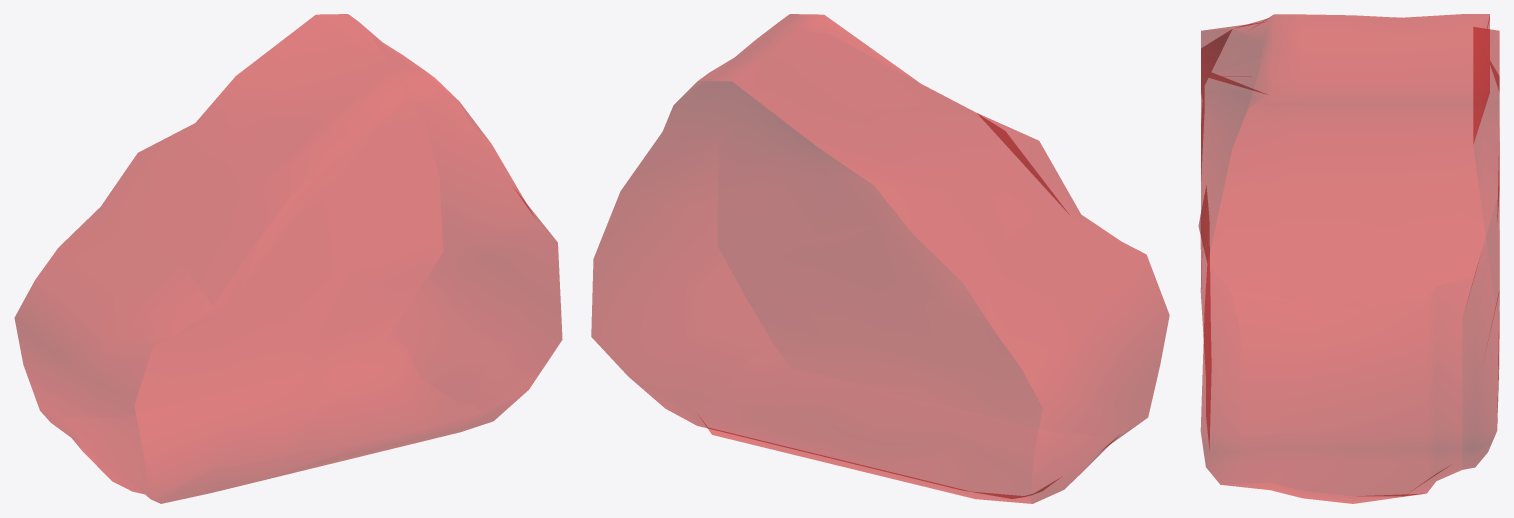
File: OooweeRock.fbx
3 renders of one model, left to right at view 1: azimuth 30°, elevation 25°; view 2: azimuth 150°, elevation 25°; view 3: azimuth 270°, elevation 25°, orthographic. The views are drawn at different scales.
Parts seen in each view (by area): view 1: pCube1; view 2: pCube1; view 3: pCube1.
Part boxes in pixels (x1,y1,x2,y2): pCube1: [14, 14, 562, 503]; pCube1: [591, 14, 1169, 503]; pCube1: [1198, 14, 1499, 503].
Size of the model in its own units: 36.67 by 30.45 by 17.95.
